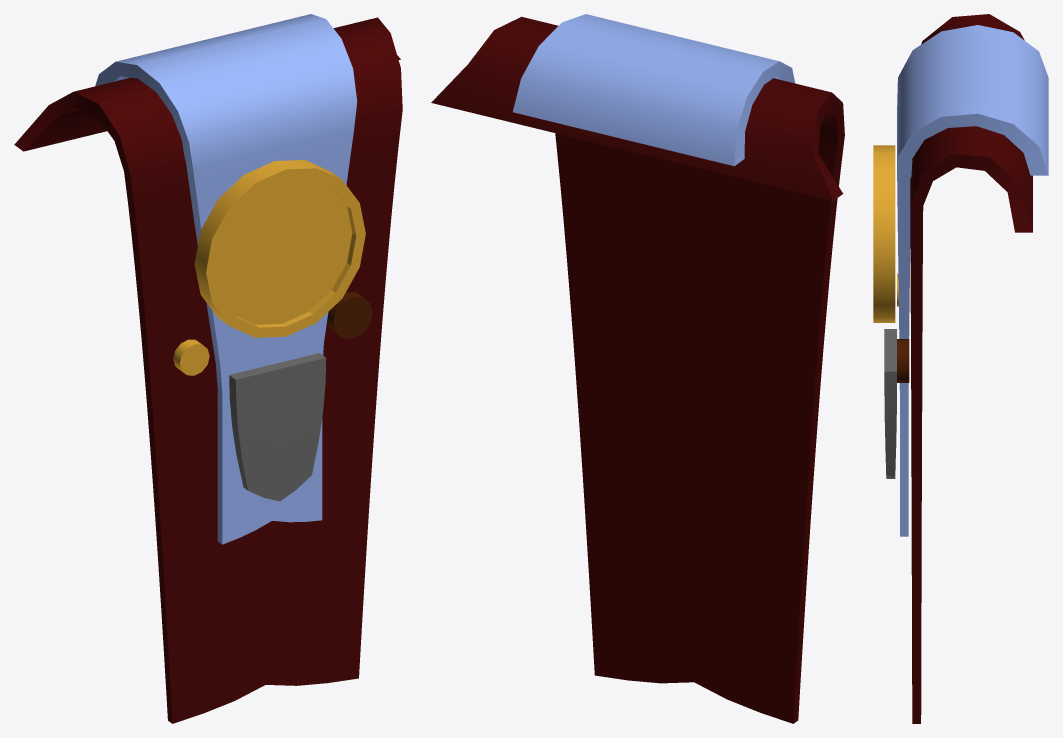
Rendered from tropy_gold.FBX.
The picture shows the model from 3 angles, left to right: view 1: azimuth 30°, elevation 25°; view 2: azimuth 150°, elevation 25°; view 3: azimuth 270°, elevation 25°; orthographic projection. The views are drawn at different scales.
Visible parts, largest first — view 1: Quader002, Quader004, Zylinder001, Quader003, Zylinder003, Zylinder002; view 2: Quader002, Quader004; view 3: Quader004, Quader002, Zylinder001, Quader003, Zylinder003.
Part boxes in pixels (box(x1,y1,x2,y2)): Quader002: box(14, 17, 402, 723); Quader004: box(95, 14, 357, 544); Zylinder001: box(194, 160, 365, 337); Quader003: box(229, 353, 326, 501); Zylinder003: box(327, 292, 372, 338); Zylinder002: box(173, 339, 209, 375); Quader002: box(431, 16, 844, 723); Quader004: box(512, 14, 794, 166); Quader004: box(897, 25, 1048, 536); Quader002: box(910, 14, 1032, 723); Zylinder001: box(873, 145, 895, 322); Quader003: box(884, 329, 896, 478); Zylinder003: box(897, 339, 909, 382).
Size of the model in its own units: 0.2153 by 0.0899 by 0.3456.
